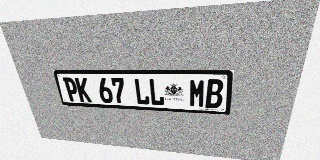6: (97, 78, 114, 103)
7: (110, 78, 127, 104)
B: (205, 79, 224, 109)
K: (74, 77, 92, 102)
L: (148, 78, 165, 106), (133, 78, 150, 105)
M: (189, 79, 206, 108)
P: (62, 77, 80, 102)
